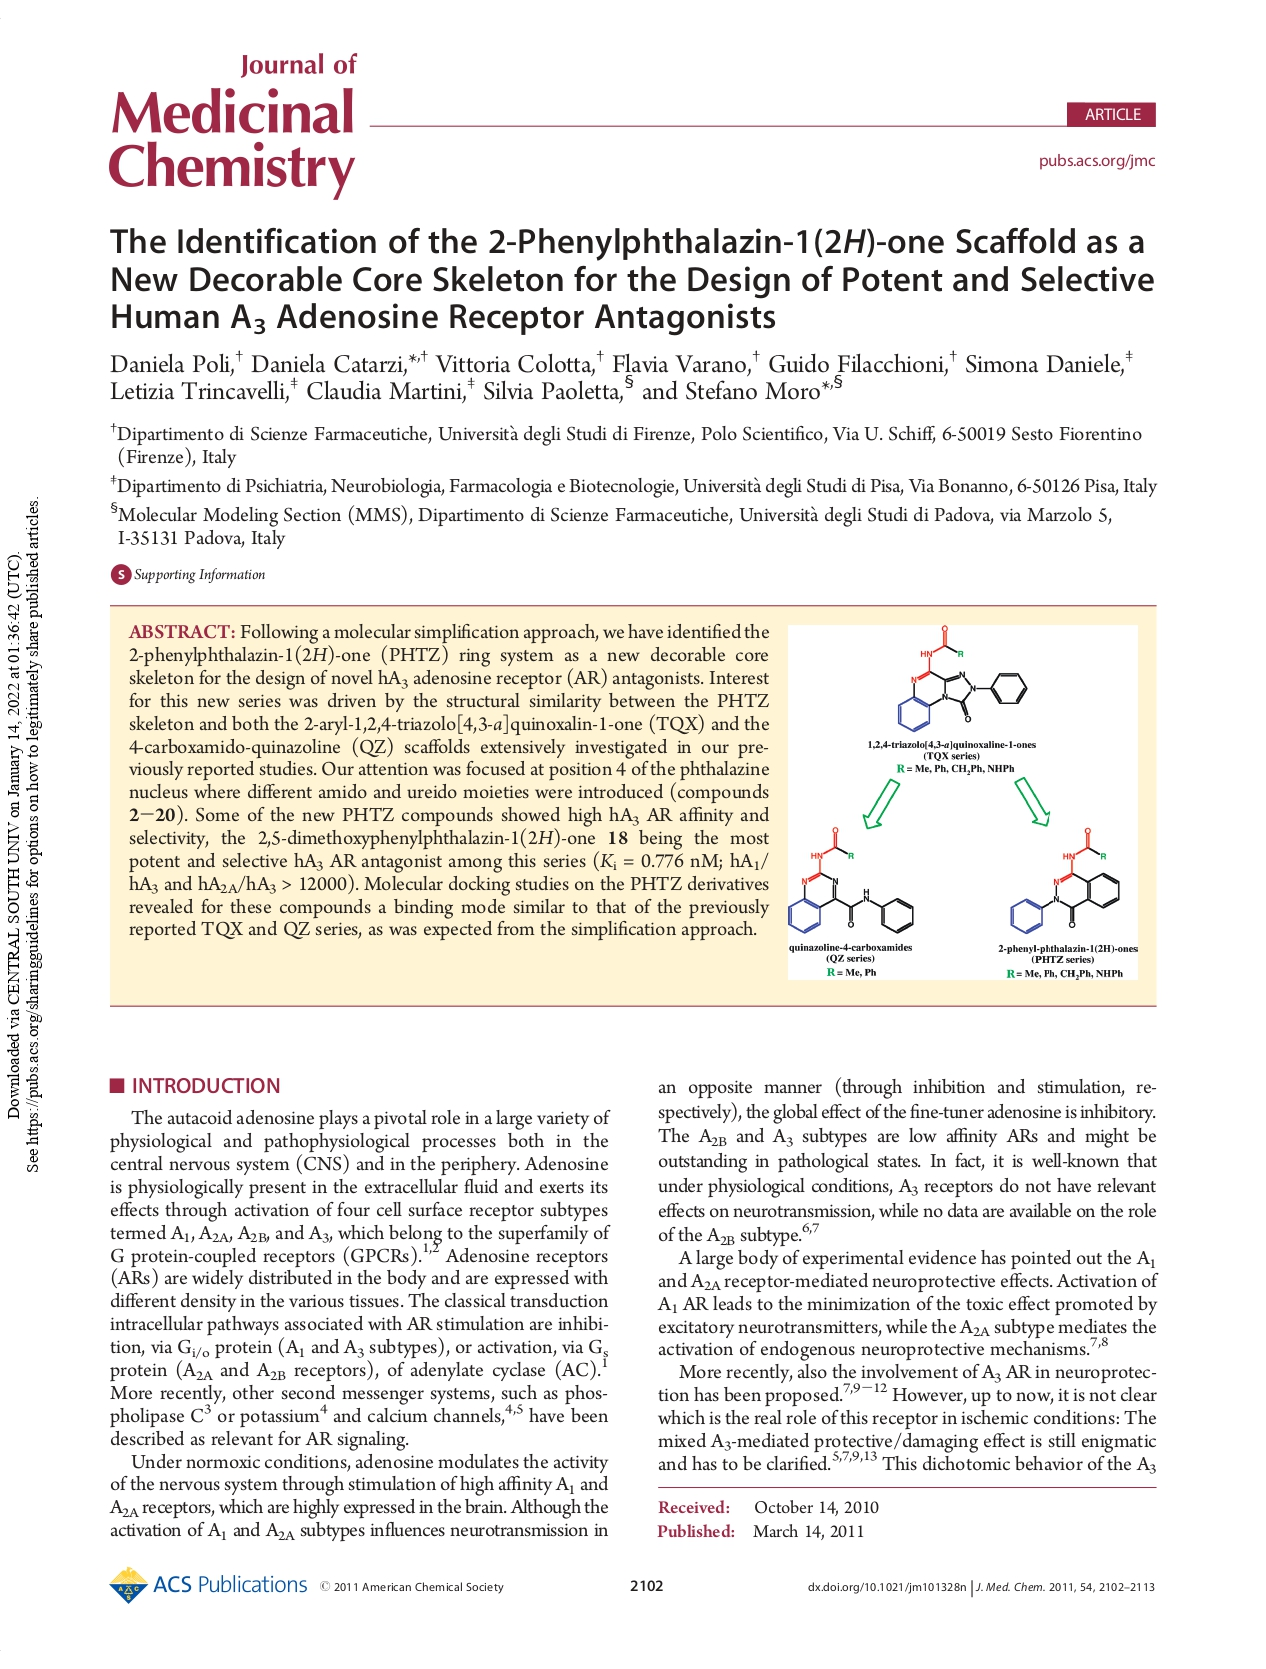exist_molecular: (894, 618, 1031, 734), (783, 825, 919, 935), (1005, 825, 1128, 936)
